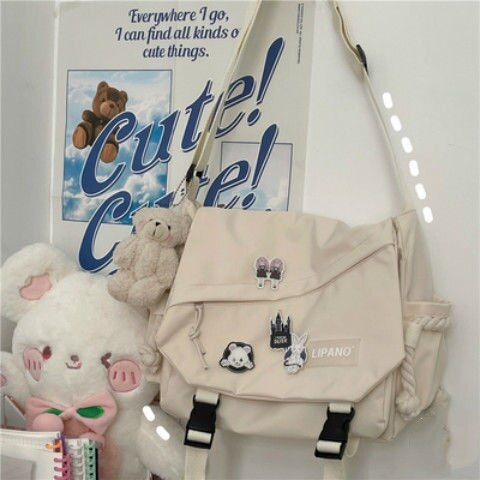nylon: (155, 205, 453, 444)
